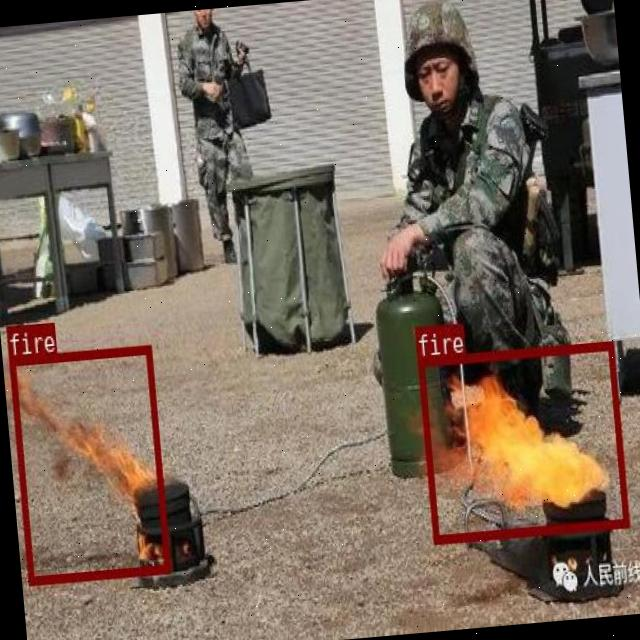fire: (418, 339, 628, 543), (8, 343, 169, 582)
